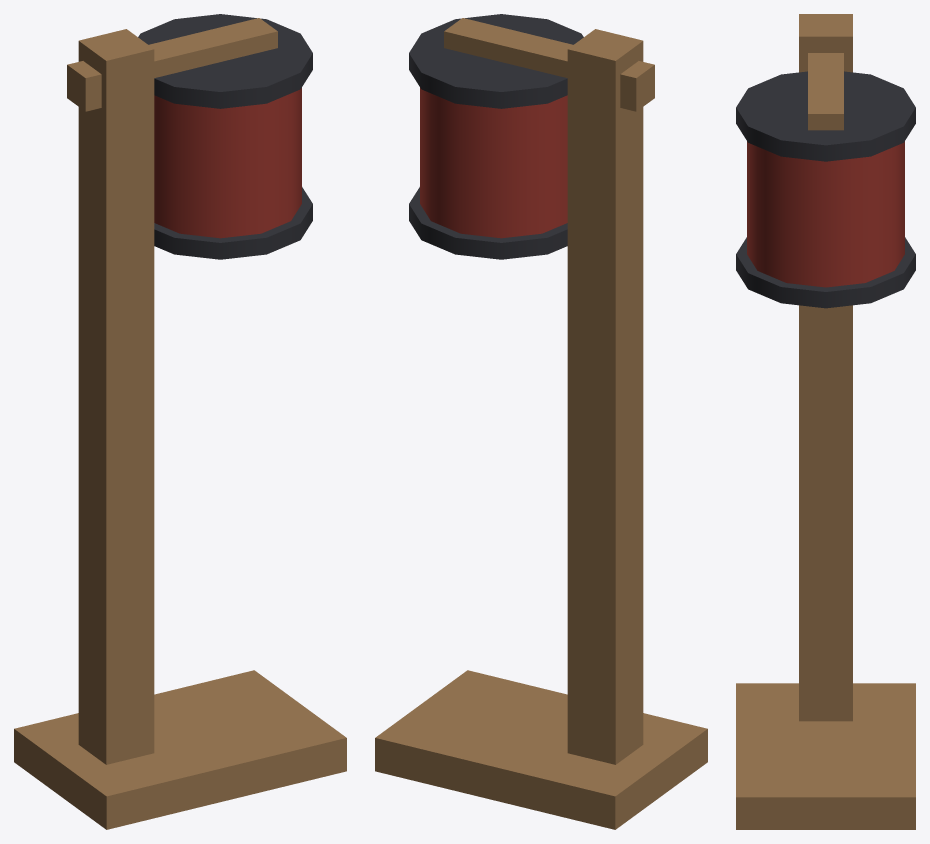
The picture shows the model from 3 angles, left to right: view 1: azimuth 30°, elevation 25°; view 2: azimuth 150°, elevation 25°; view 3: azimuth 270°, elevation 25°; orthographic projection. The views are drawn at different scales.
Visible parts, largest first — view 1: lantern-a@1.0.0; view 2: lantern-a@1.0.0; view 3: lantern-a@1.0.0.
Part boxes in pixels (bbox=[...]): lantern-a@1.0.0: bbox=[14, 14, 346, 829]; lantern-a@1.0.0: bbox=[375, 14, 707, 829]; lantern-a@1.0.0: bbox=[736, 14, 915, 829].
Bounding box in the file's own units: 0.75 × 2.2 × 0.5.
